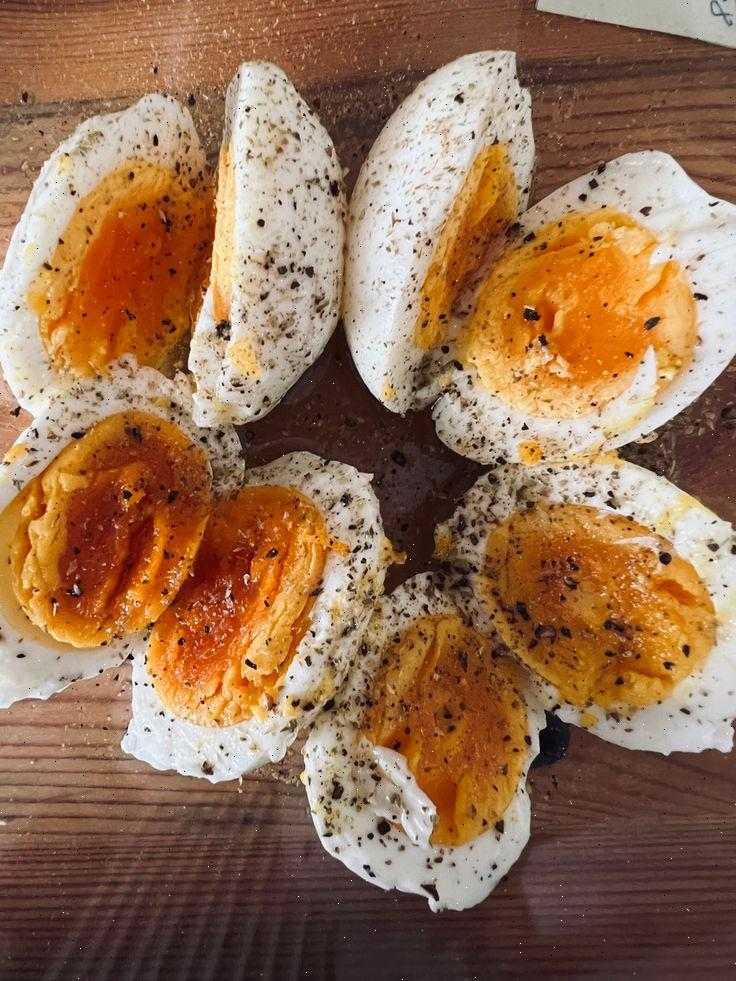eggs: (30, 116, 686, 879)
